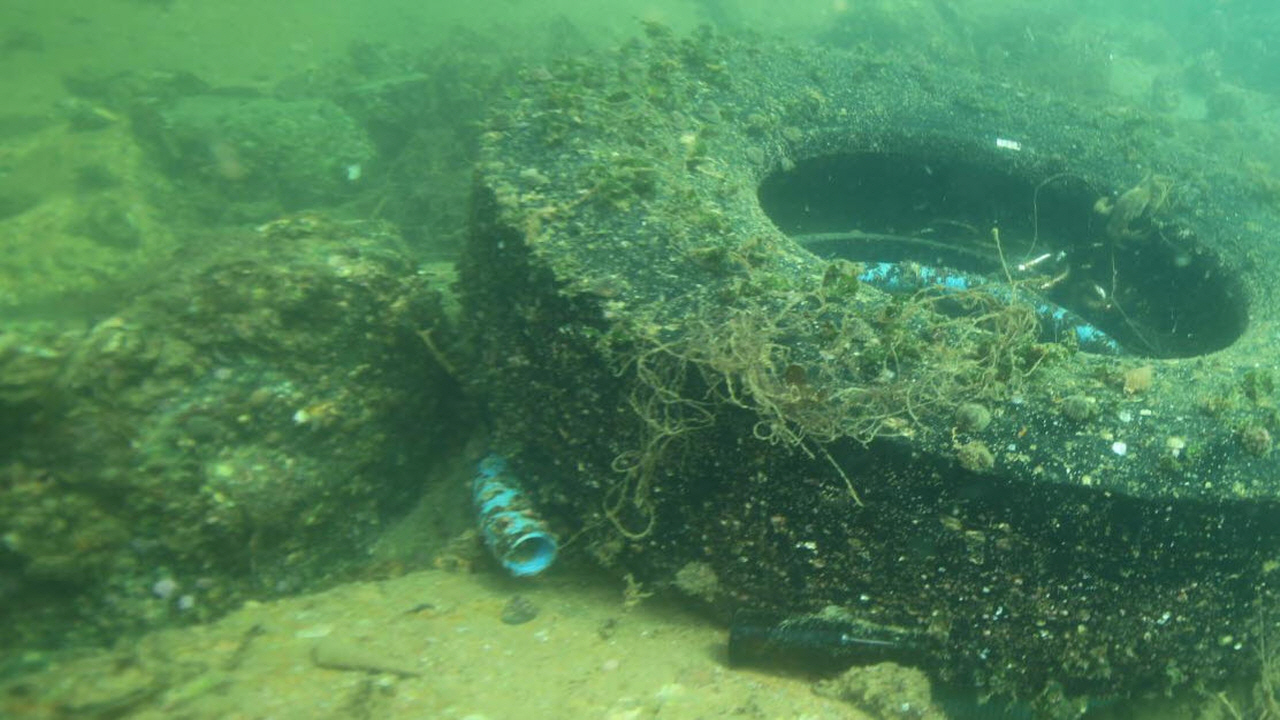tire: (461, 33, 1280, 677)
